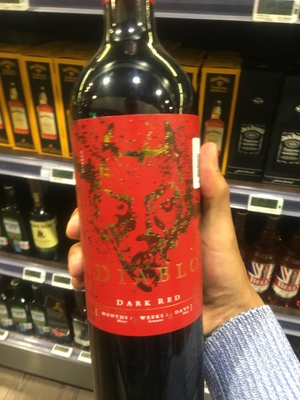diablo dark red: (65, 18, 208, 400)
